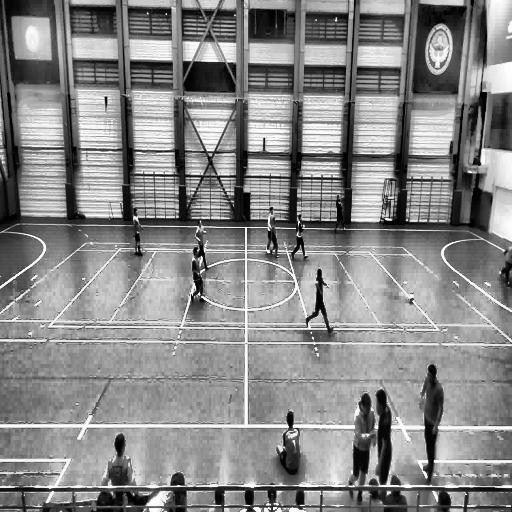ball: (408, 291, 415, 305)
player: (418, 362, 444, 482), (348, 392, 377, 499), (102, 432, 136, 488), (275, 410, 302, 474), (306, 269, 332, 332), (376, 390, 392, 492), (194, 216, 210, 274), (191, 246, 205, 304), (290, 213, 307, 260), (266, 208, 279, 258), (499, 236, 512, 286), (132, 208, 144, 256), (268, 214, 280, 259), (334, 197, 345, 233)
